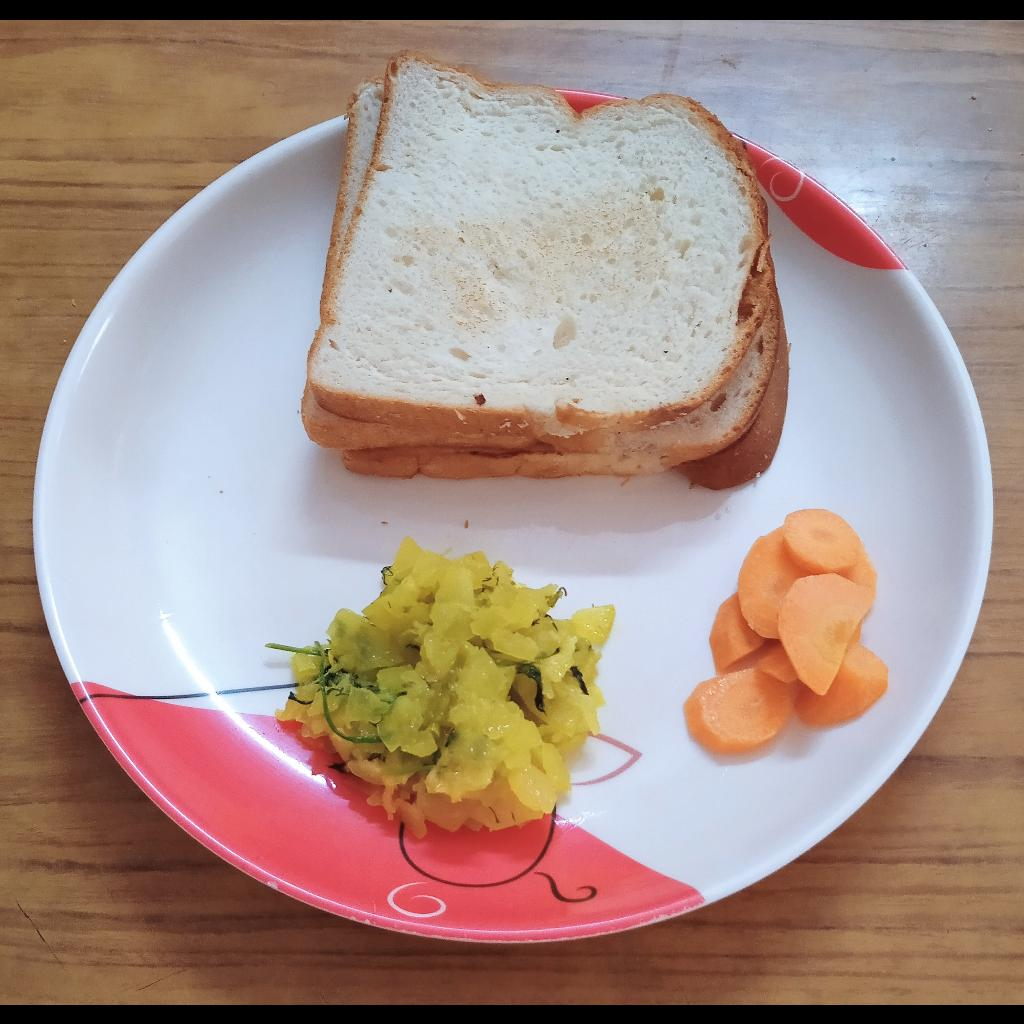bread: (296, 50, 792, 493)
cabbage: (282, 541, 619, 837)
carrot: (682, 506, 889, 753)
